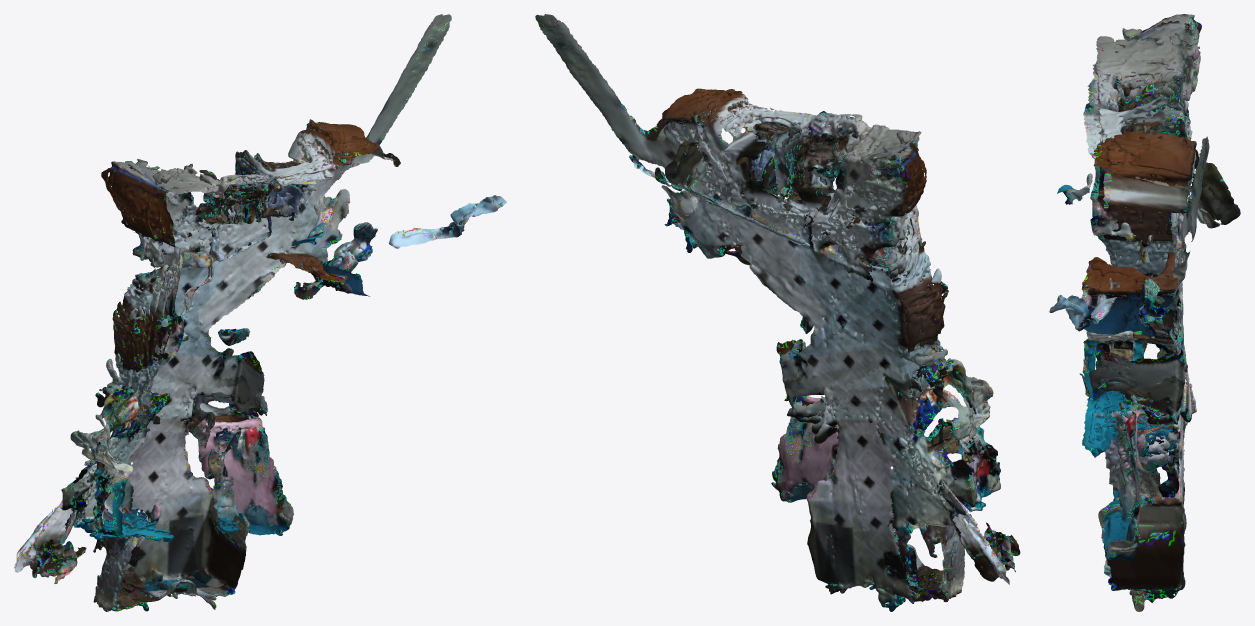
3 renders of one model, left to right at view 1: azimuth 30°, elevation 25°; view 2: azimuth 150°, elevation 25°; view 3: azimuth 270°, elevation 25°, orthographic. The views are drawn at different scales.
Bounding box in the file's own units: 7.83 × 8.61 × 2.39.
Materials: 1 (1 with a texture image).
